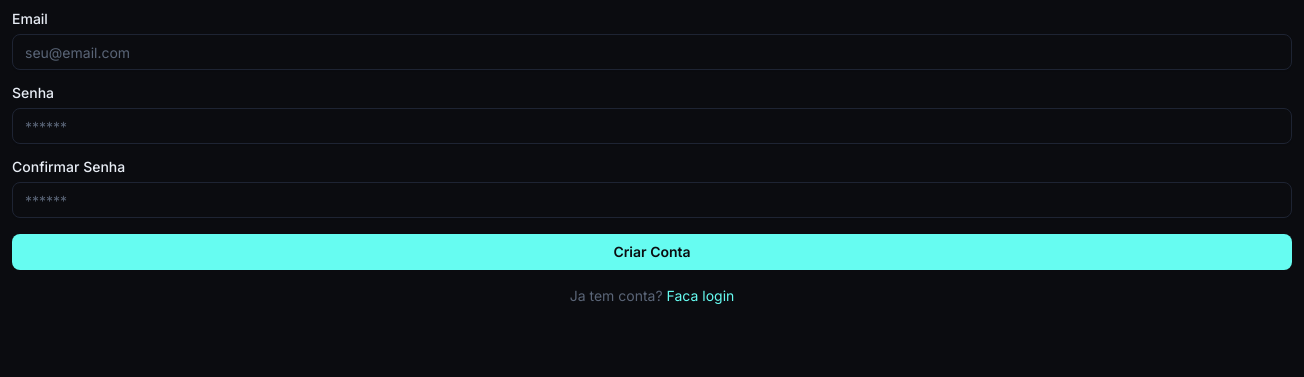
Scenario: RegisterForm › shows error for short password
Type "test@example.com" into the field labelled "Email". click: [652, 52]
box: [12, 34, 1292, 70]
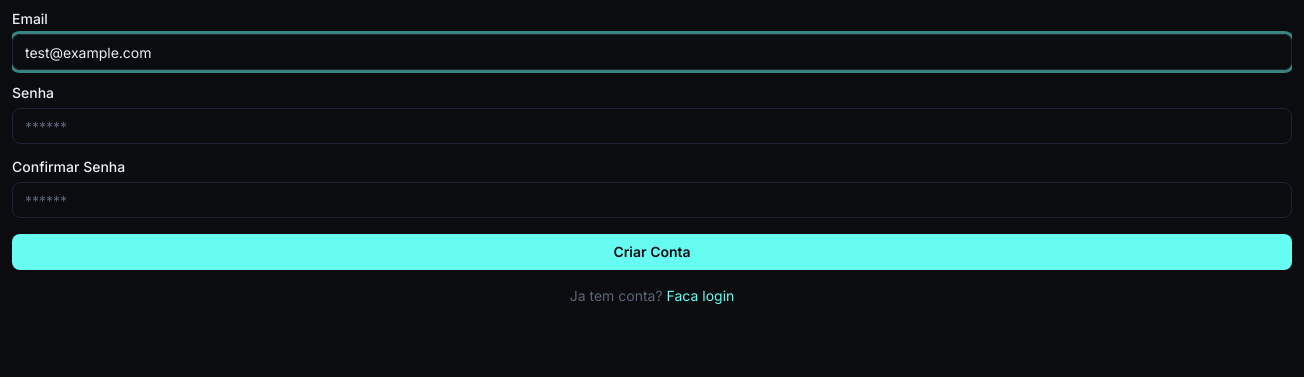
Type "123" into the password field labelled "Senha". click: [652, 126]
box: [12, 108, 1292, 144]
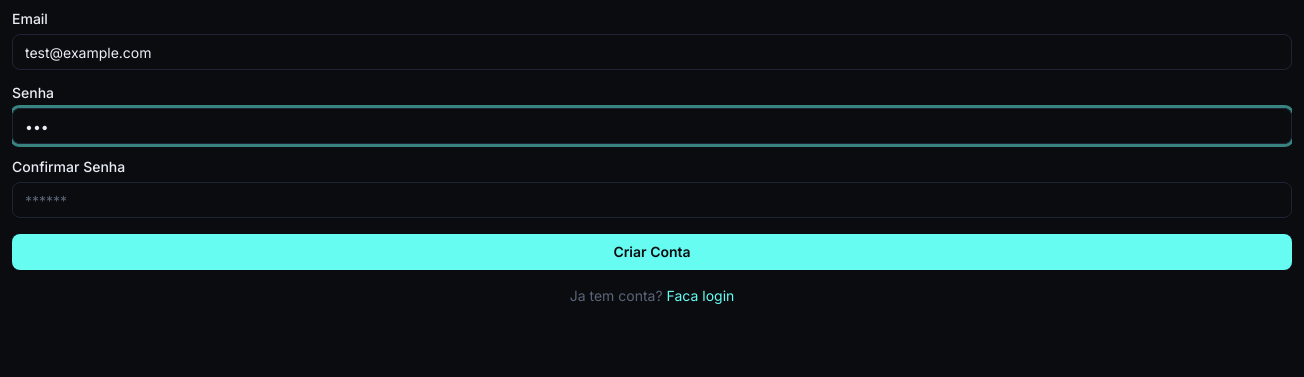
Type "123" into the password field labelled "Confirmar Senha". click: [652, 200]
box: [12, 182, 1292, 218]
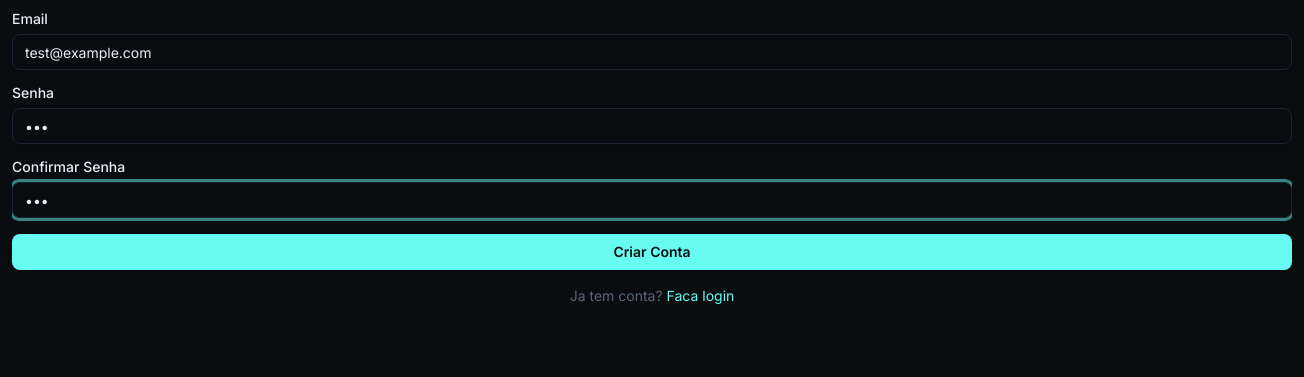
Click the button "Criar Conta". click: [652, 252]
box: [12, 234, 1292, 270]
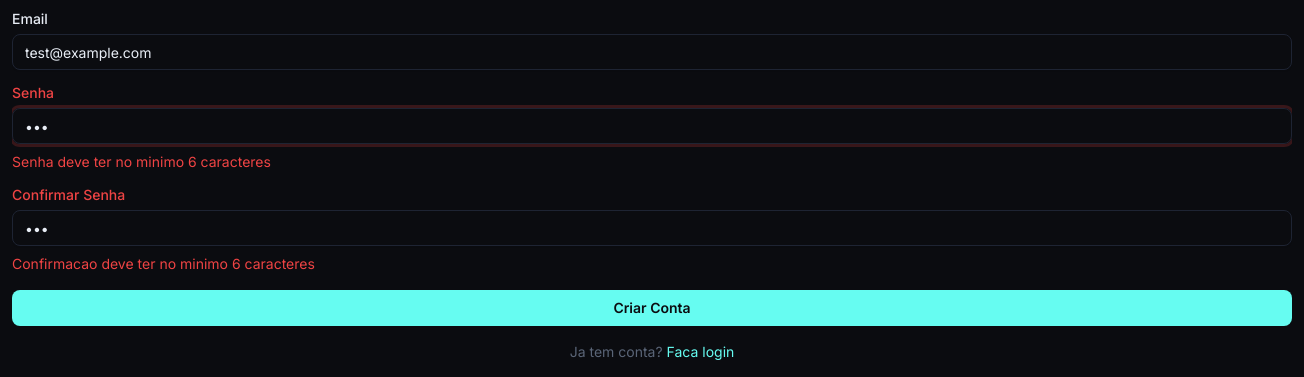
Expected: the text "Senha deve ter no minimo 6 caracteres" is shown, [12, 153, 271, 170]
